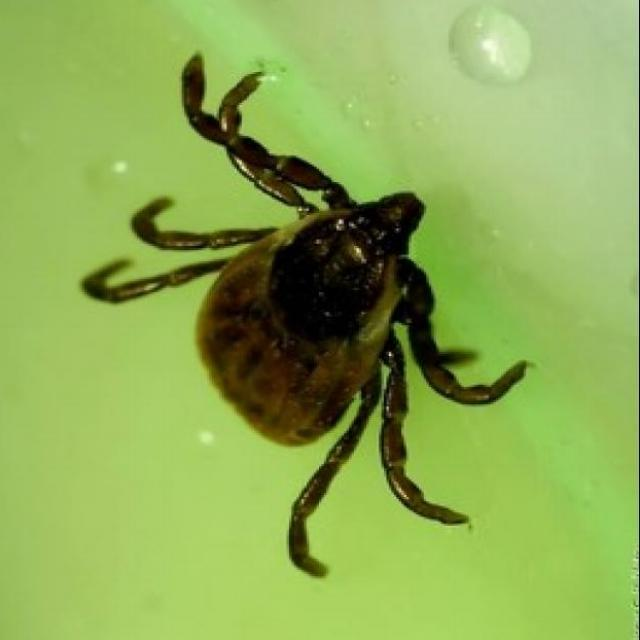Rhipicephalus Sanguineus-F: (81, 52, 532, 578)
